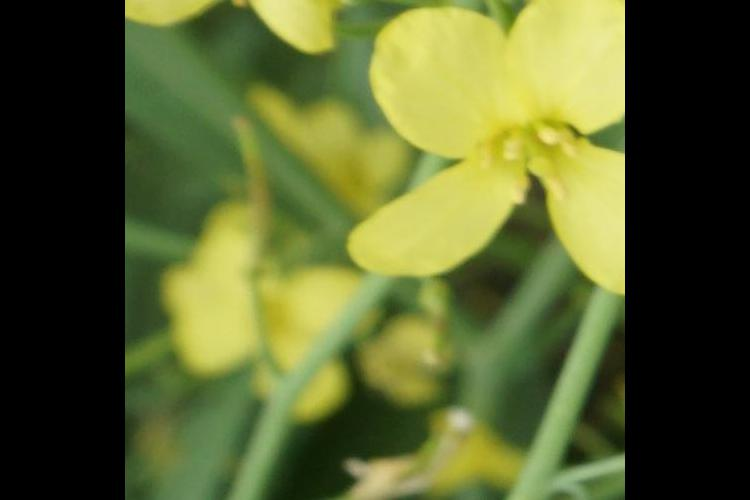yellow: (354, 1, 623, 292), (131, 1, 329, 44)
